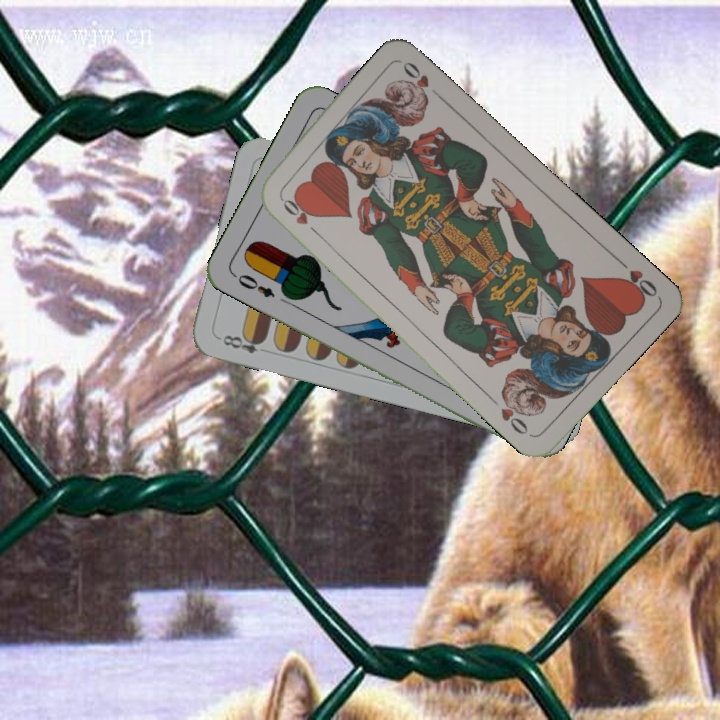E8: (218, 330, 273, 356)
EO: (229, 270, 278, 300)
HO: (613, 254, 660, 303), (275, 191, 322, 238)
